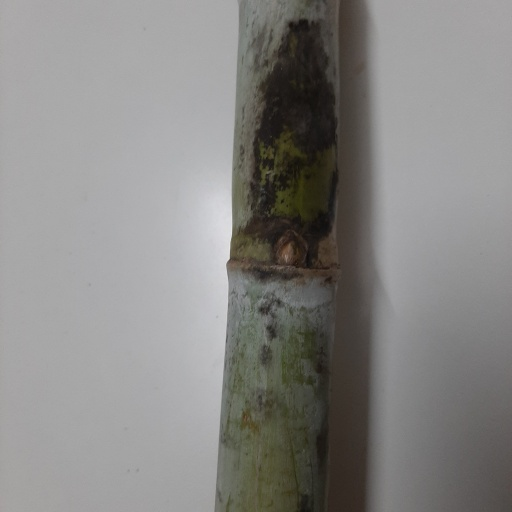Bud: (274, 230, 307, 269)
